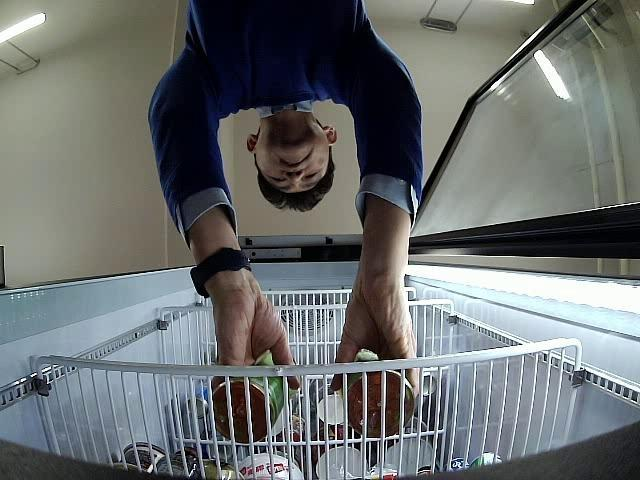19_17cha: (210, 351, 288, 444), (342, 350, 413, 436)
